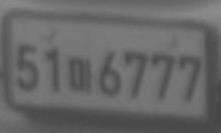1: (43, 45, 66, 91)
5: (16, 44, 39, 92)
6: (98, 51, 120, 96)
7: (123, 51, 149, 97), (151, 52, 175, 101), (178, 55, 201, 103)
마: (69, 56, 92, 93)
